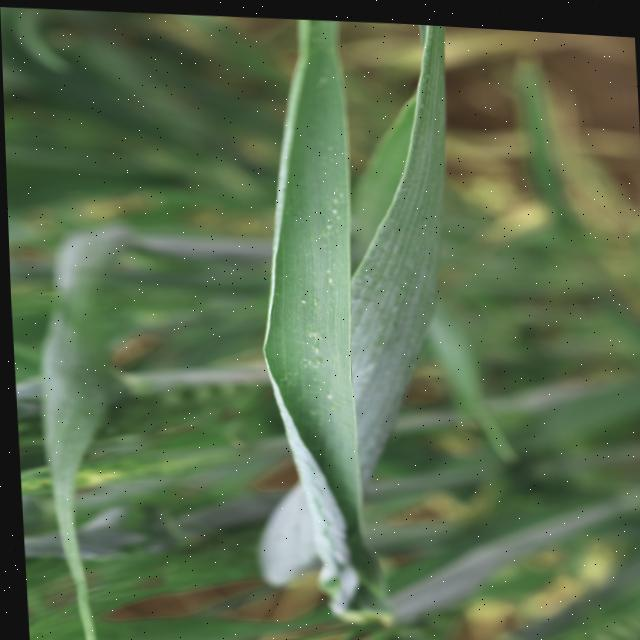healthy_wheat: (232, 11, 493, 558), (17, 497, 335, 640), (486, 556, 640, 640), (256, 611, 468, 640)
yellow_rust: (15, 437, 229, 506)
